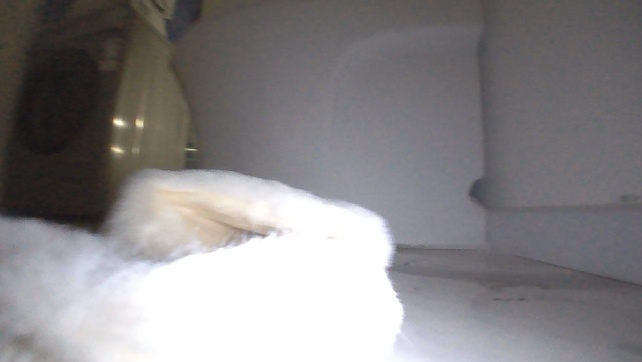shoe: (0, 160, 409, 360)
toilet: (163, 1, 496, 257)
washing_machine: (1, 3, 197, 224)
